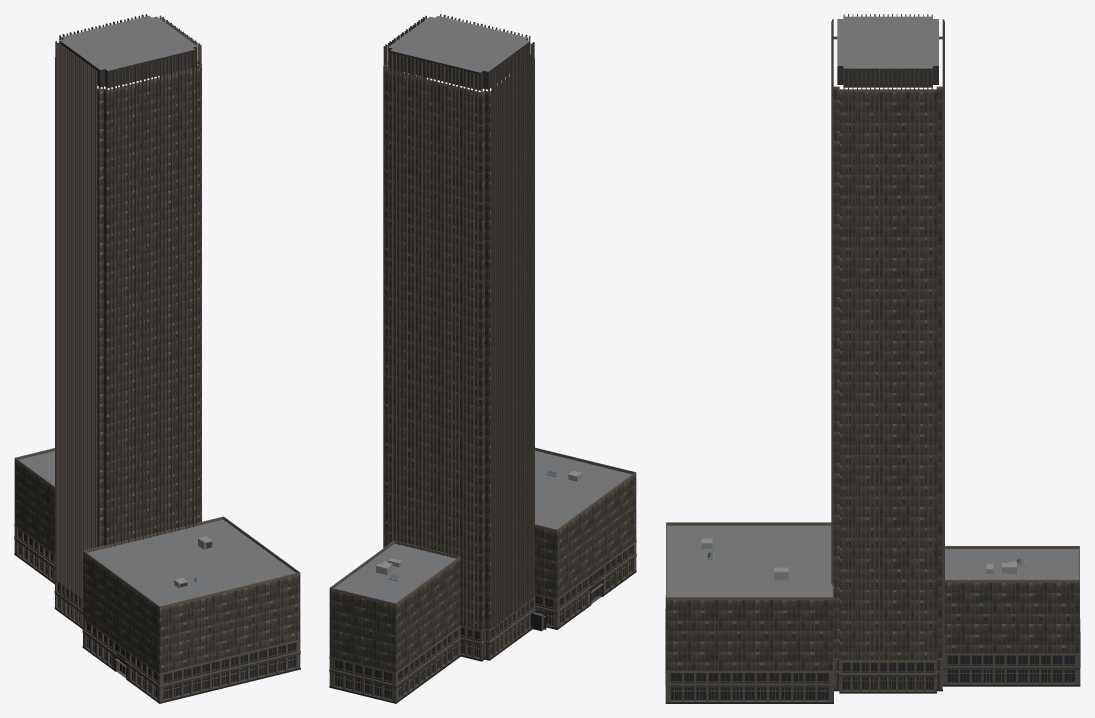
Rendered from one_penn_plaza.glb.
The picture shows the model from 3 angles, left to right: view 1: azimuth 30°, elevation 25°; view 2: azimuth 150°, elevation 25°; view 3: azimuth 270°, elevation 25°; orthographic projection. The views are drawn at different scales.
Visible parts, largest first — view 1: one_penn_plaza; view 2: one_penn_plaza; view 3: one_penn_plaza.
Part boxes in pixels (bbox=[...]): one_penn_plaza: bbox=[14, 14, 300, 703]; one_penn_plaza: bbox=[329, 14, 636, 703]; one_penn_plaza: bbox=[665, 14, 1080, 703].
Size of the model in its own units: 59.72 by 229 by 138.
Materials: 2 (2 with a texture image).
